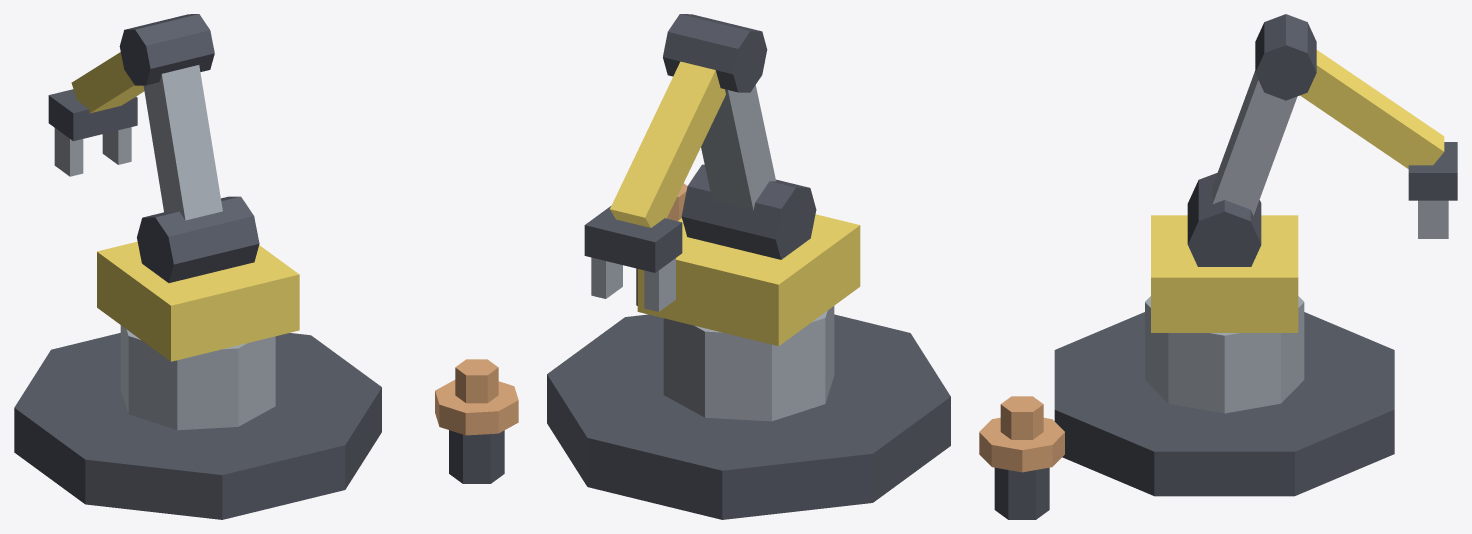
File: braco_sem_textura.glb
3 renders of one model, left to right at view 1: azimuth 30°, elevation 25°; view 2: azimuth 150°, elevation 25°; view 3: azimuth 270°, elevation 25°, orthographic. The views are drawn at different scales.
Visible parts, largest first — view 1: braco_base, braco_giro, braco_braco1, braco_garra, braco_braco2; view 2: braco_base, braco_giro, braco_braco1, braco_braco2, braco_garra; view 3: braco_base, braco_giro, braco_braco1, braco_braco2, braco_garra.
Part boxes in pixels (x1,y1,x2,y2): braco_base: (14, 325, 518, 519); braco_giro: (97, 196, 299, 361); braco_braco1: (119, 14, 222, 220); braco_garra: (48, 89, 137, 176); braco_braco2: (71, 52, 144, 113); braco_base: (547, 183, 950, 519); braco_giro: (637, 164, 860, 346); braco_braco1: (663, 14, 775, 210); braco_braco2: (610, 61, 725, 227); braco_garra: (584, 206, 682, 311); braco_base: (979, 296, 1394, 519); braco_giro: (1151, 173, 1298, 332); braco_braco1: (1212, 14, 1316, 215); braco_braco2: (1300, 50, 1444, 168); braco_garra: (1408, 142, 1457, 238).
Size of the model in its own units: 0.6772 by 0.71 by 0.78.
